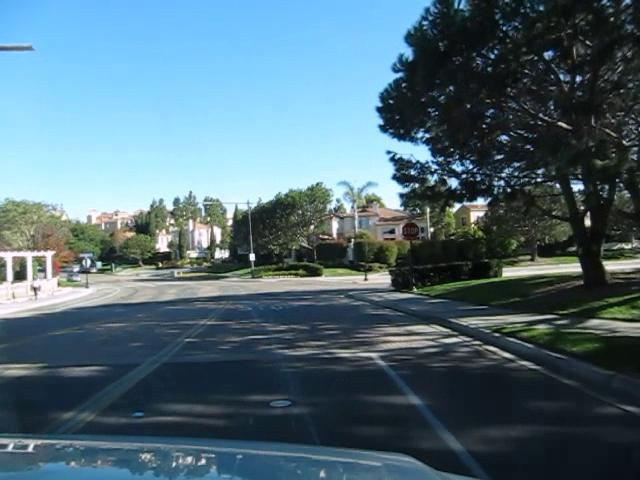stop: (400, 221, 420, 240)
